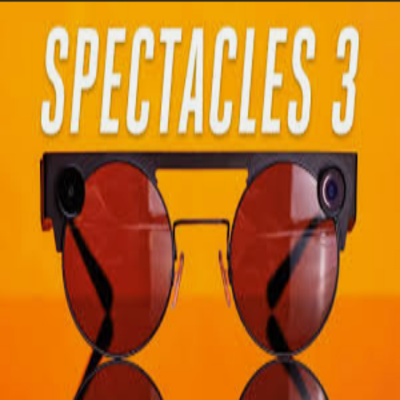glasses: (35, 146, 364, 362)
